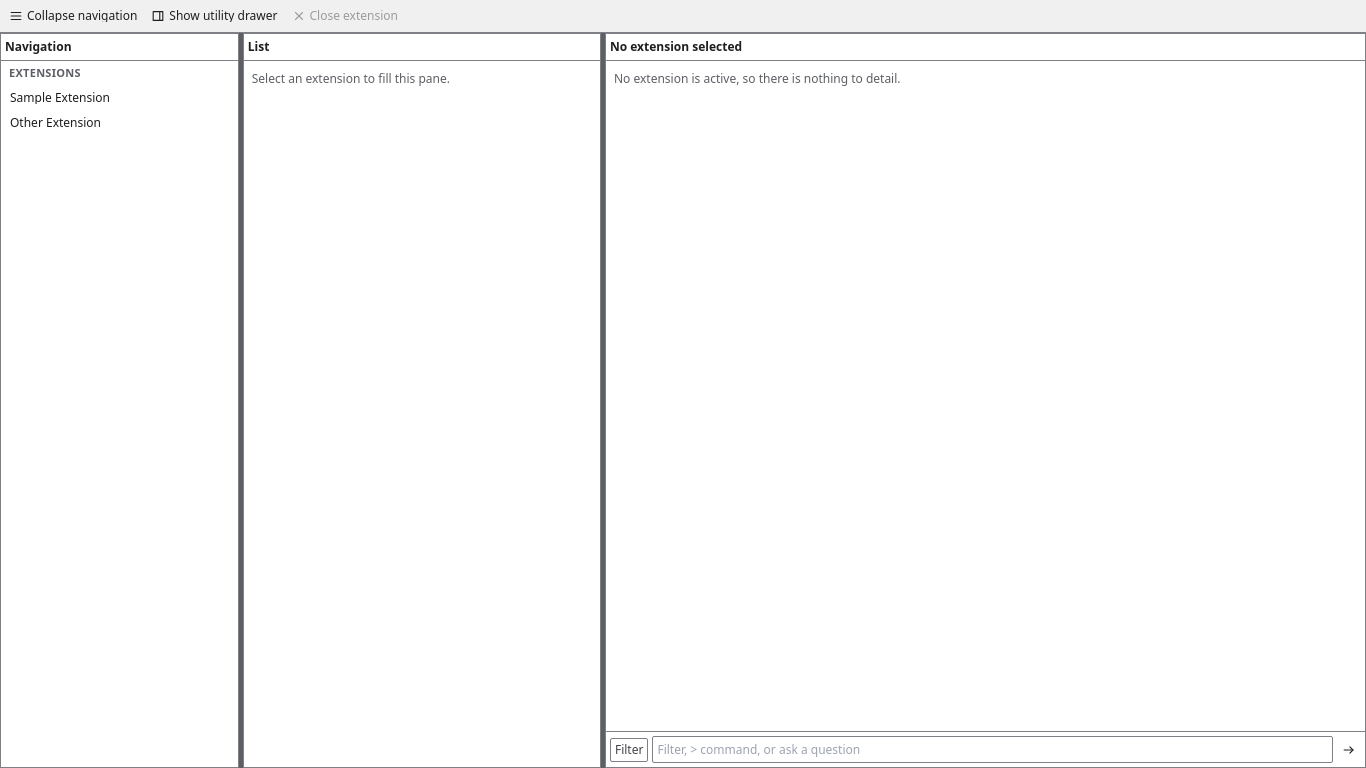
Test: ShellLayout — extensions › switches the foreground between two registered extensions
What coordinates should you click on to do the following:
click the button "Sample Extension"
I would click on:
 (119, 98)
Its box is [5,86,234,110].
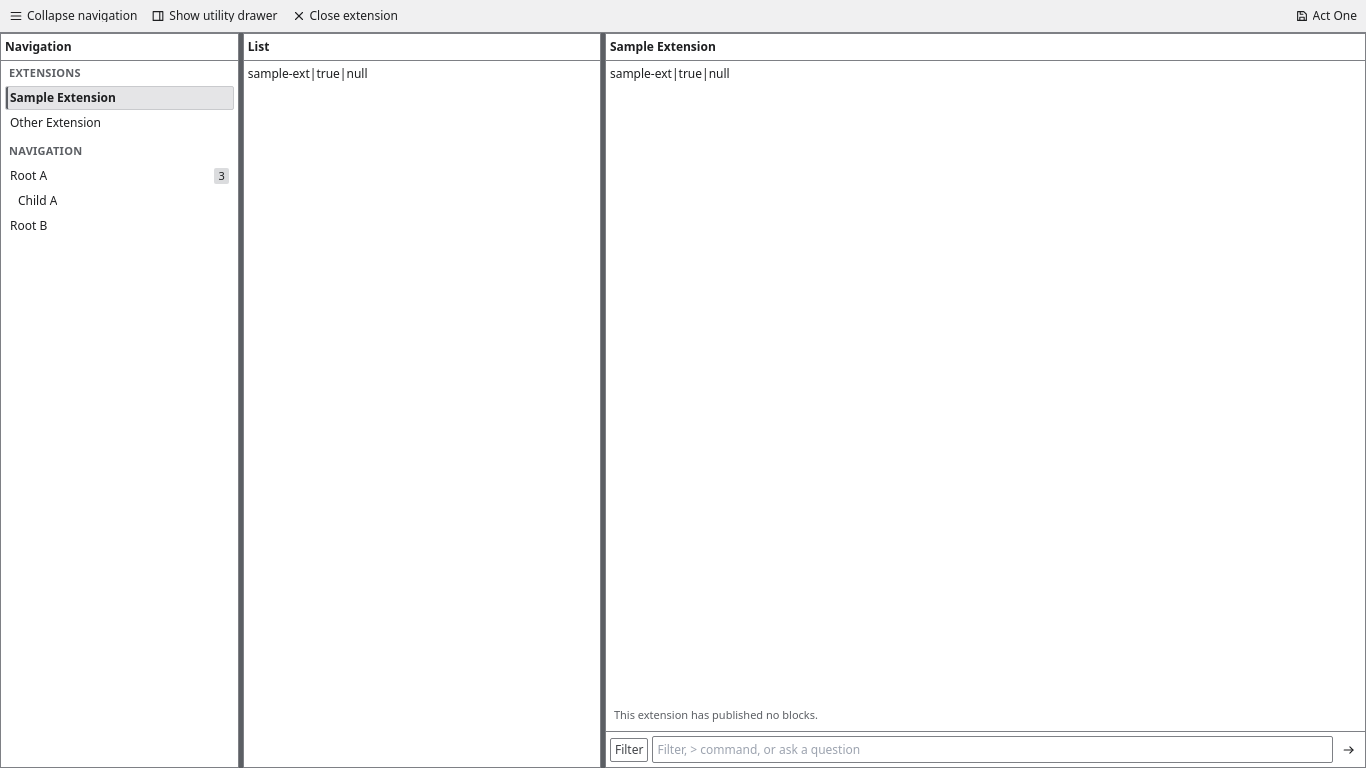
Check: the text with test id "probe-pane2" reads "sample-ext|true|null", box [248,65,368,82]
What coordinates should you click on to do the following:
click the button "Other Extension"
I would click on:
 (119, 122)
Its box is [5,110,234,134].
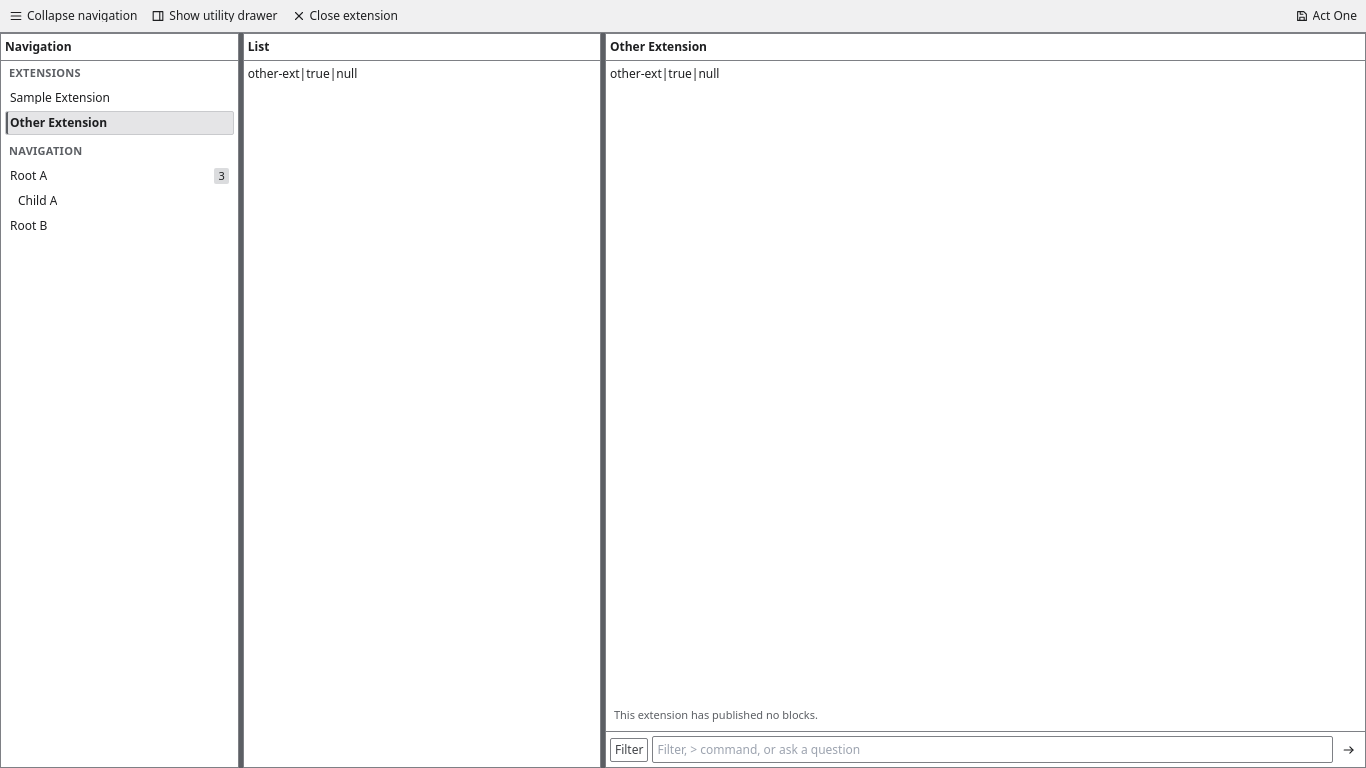
Check: the text with test id "probe-pane2" reads "other-ext|true|null", box [248,65,357,82]
